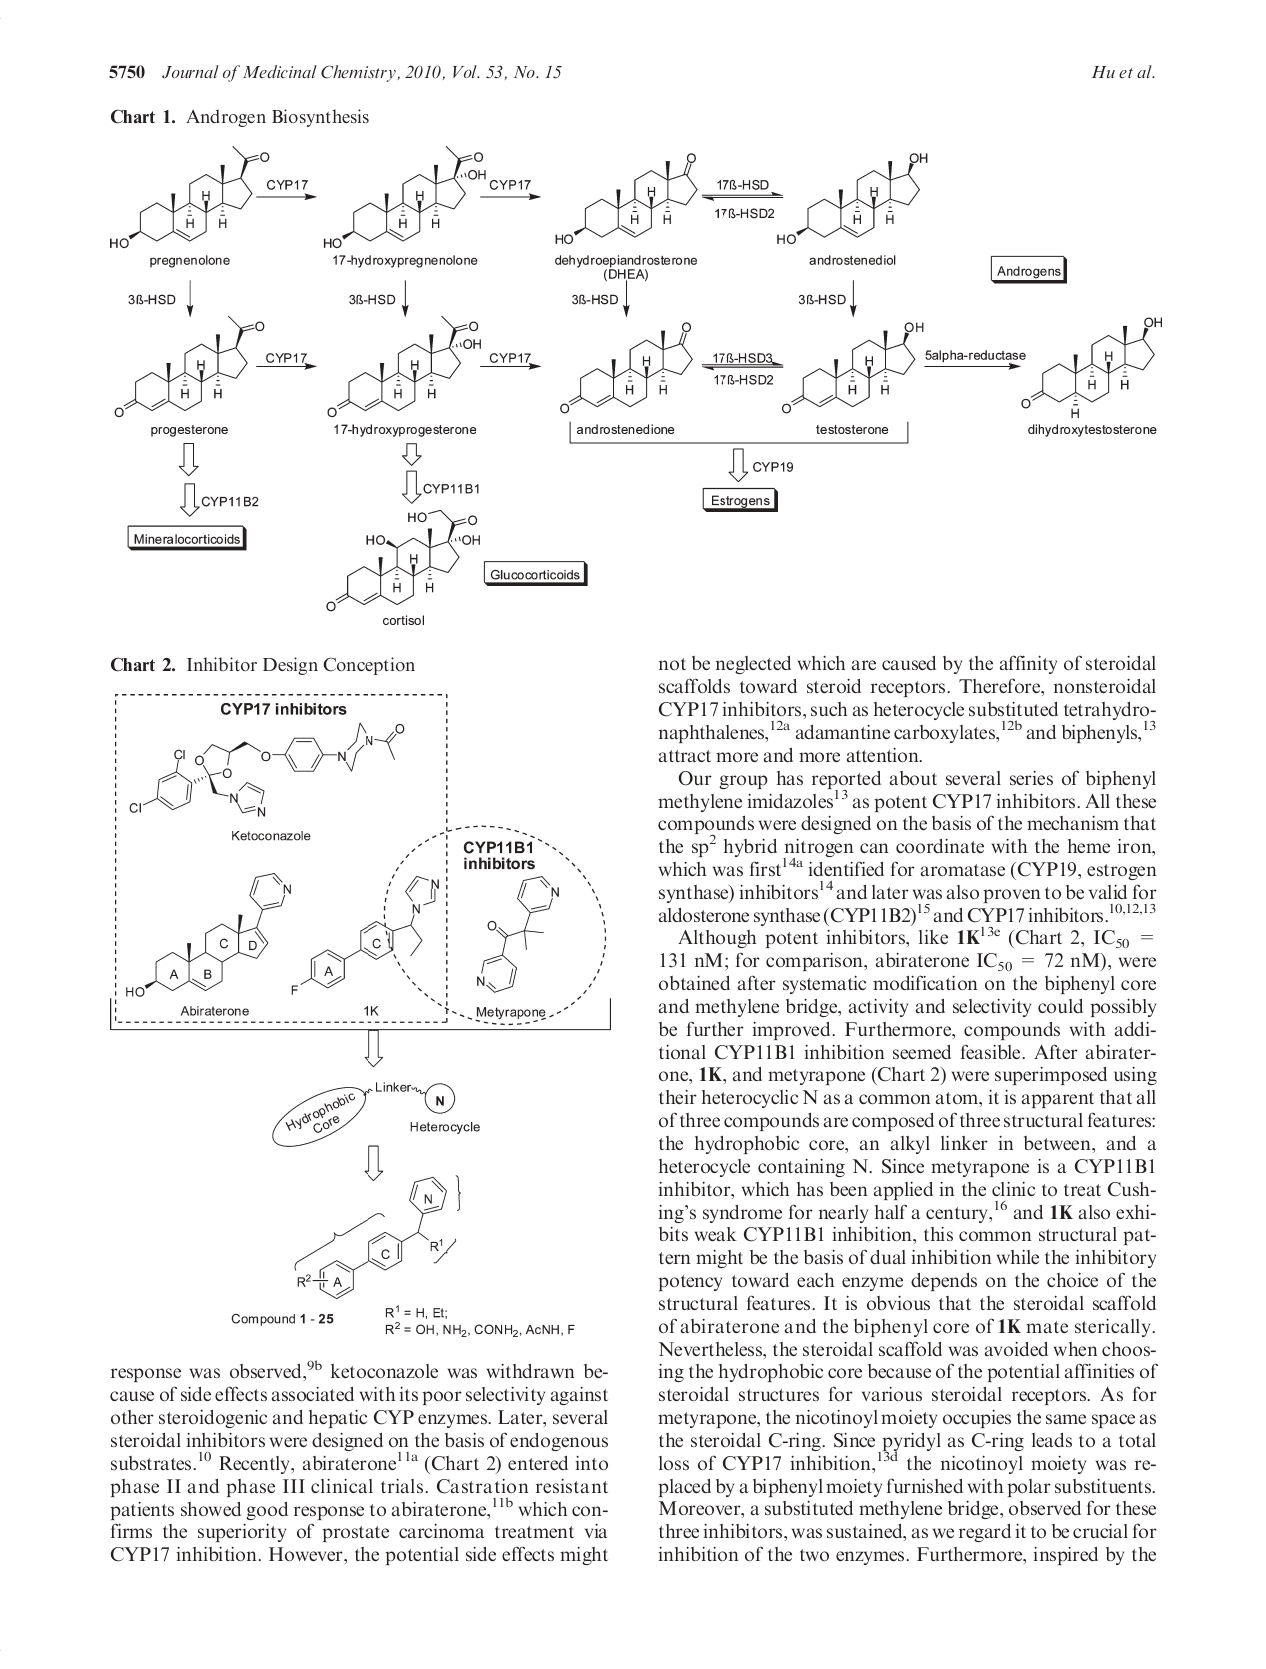exist_molecular: (126, 719, 406, 817), (122, 872, 295, 999), (293, 1172, 449, 1301), (289, 868, 442, 995), (102, 144, 273, 255), (323, 144, 487, 251), (777, 144, 934, 255), (327, 503, 477, 614), (113, 313, 269, 416), (328, 315, 481, 418), (1019, 311, 1168, 416), (551, 149, 703, 247), (553, 318, 698, 422), (781, 317, 926, 414), (469, 876, 560, 995)
